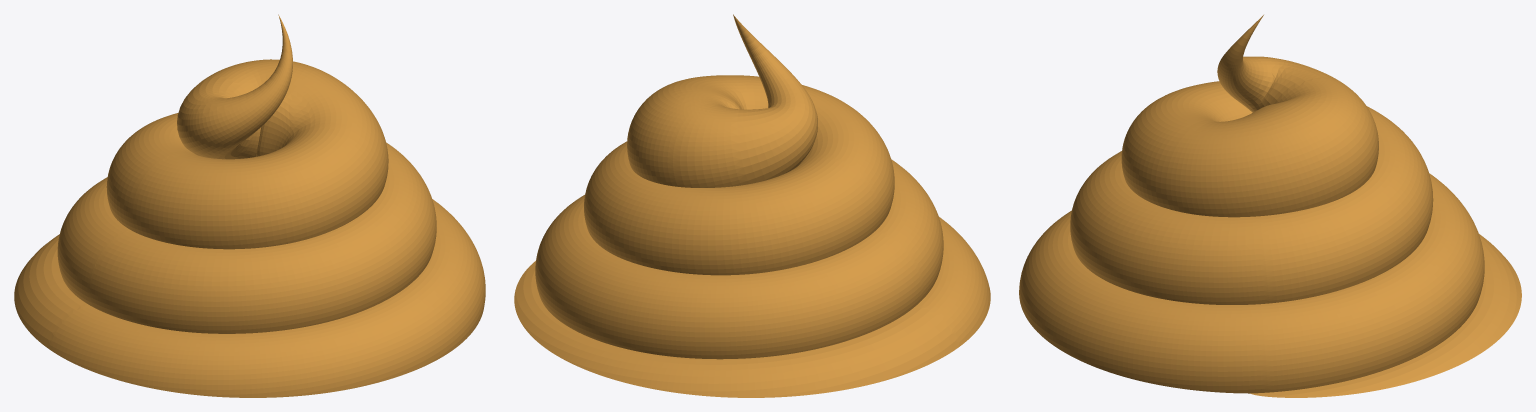
The model's file is unko.fbx.
3 views of the same model, side by side, from view 1: azimuth 30°, elevation 25°; view 2: azimuth 150°, elevation 25°; view 3: azimuth 270°, elevation 25° (orthographic). The views are drawn at different scales.
Parts seen in each view (by area): view 1: Unko.20130910170056560; view 2: Unko.20130910170056560; view 3: Unko.20130910170056560.
Boxes of the visible parts, bbox=[...] form: Unko.20130910170056560: bbox=[14, 14, 485, 397]; Unko.20130910170056560: bbox=[514, 14, 990, 397]; Unko.20130910170056560: bbox=[1019, 15, 1521, 397].
Size of the model in its own units: 165 by 107 by 167.
